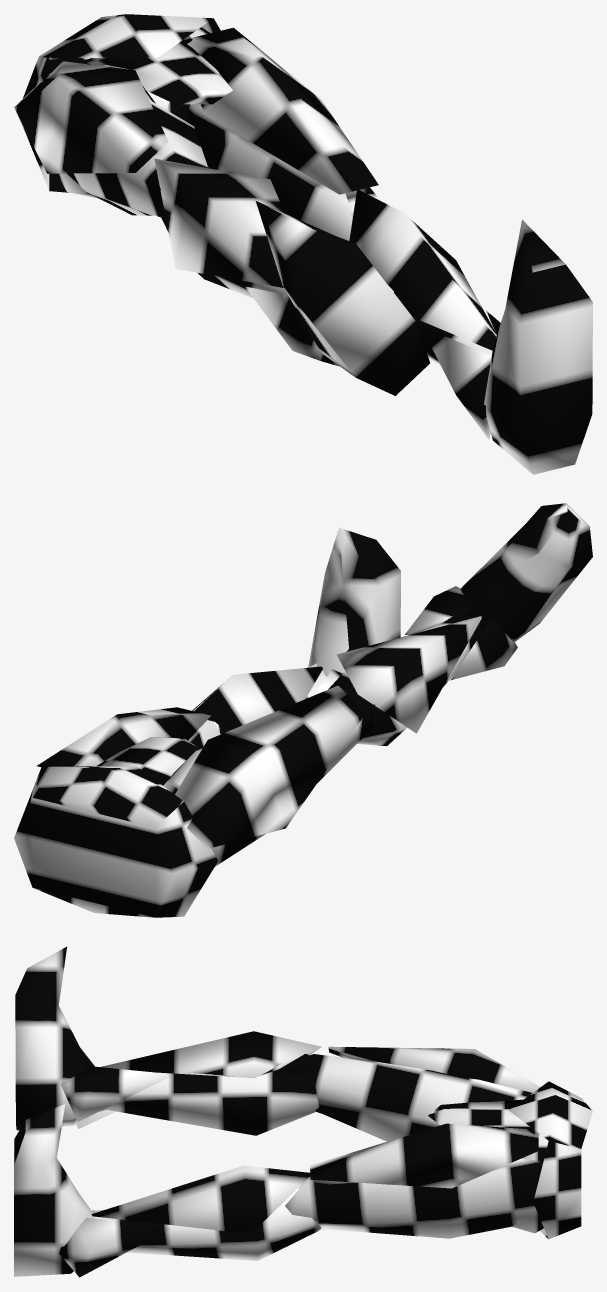
File: initarlg13.dae
3 renders of one model, top to bottom at view 1: azimuth 30°, elevation 25°; view 2: azimuth 150°, elevation 25°; view 3: azimuth 270°, elevation 25°, orthographic. The views are drawn at different scales.
Parts seen in each view (by area): view 1: armor; view 2: armor; view 3: armor.
Part boxes in pixels (x1,y1,x2,y2): armor: [14, 14, 592, 474]; armor: [14, 503, 592, 917]; armor: [14, 946, 592, 1277].
Bounding box in the file's own units: 0.7925 × 1.65 × 0.7156.
Materials: 1 (1 with a texture image).
